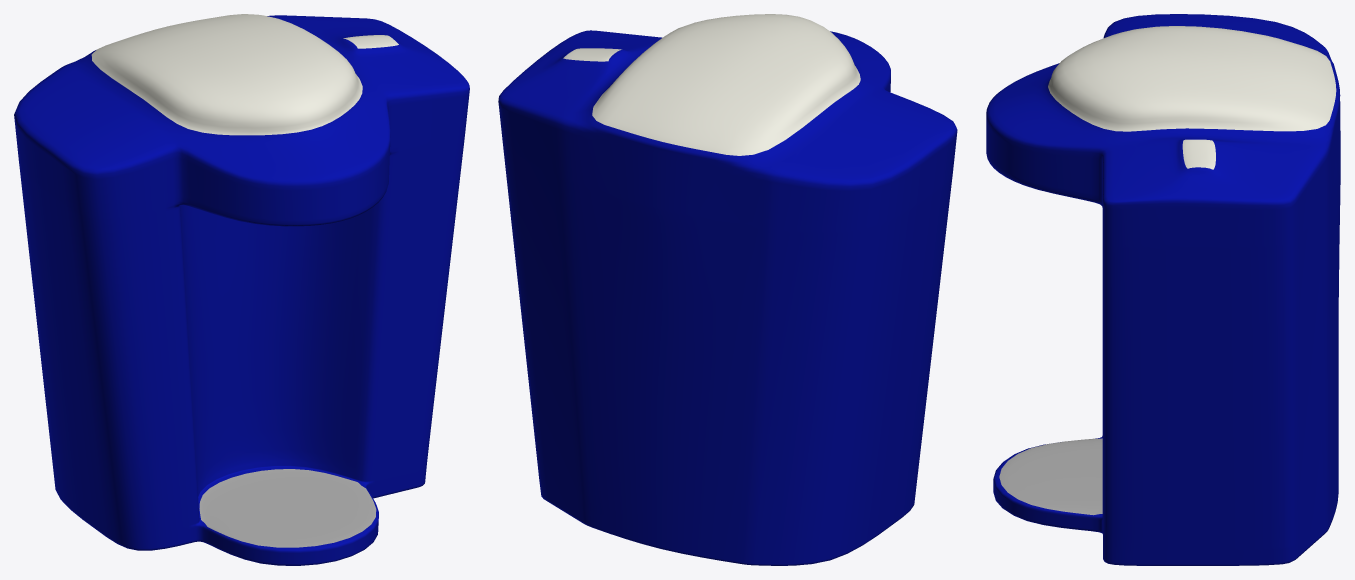
The model's file is Coffee Maker.fbx.
The picture shows the model from 3 angles, left to right: view 1: azimuth 30°, elevation 25°; view 2: azimuth 150°, elevation 25°; view 3: azimuth 270°, elevation 25°; orthographic projection.
Parts seen in each view (by area): view 1: pCube1; view 2: pCube1; view 3: pCube1.
Part boxes in pixels (bbox=[...]): pCube1: bbox=[14, 14, 469, 565]; pCube1: bbox=[498, 14, 957, 565]; pCube1: bbox=[986, 14, 1340, 565].
Bounding box in the file's own units: 26.01 × 28.44 × 20.83.
